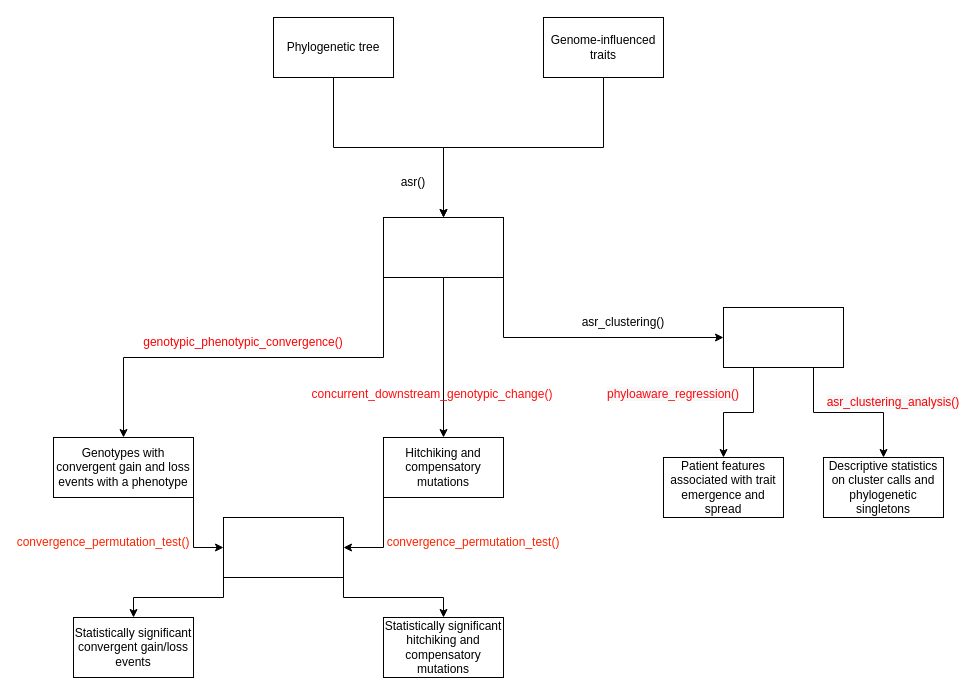
Image size: 977x695. Some labels were removed from this diagram. The shapes that lost their labels are listed below. From the top down, each one's centre as x and y in pixels, then its label:
(x=443, y=247): Ancestral state reconstruction estimates for internal nodes and tips
(x=783, y=337): Tip dataframe: Cluster and singleton calls
(x=283, y=547): Random permutation of genotype on tree and perform ASR
